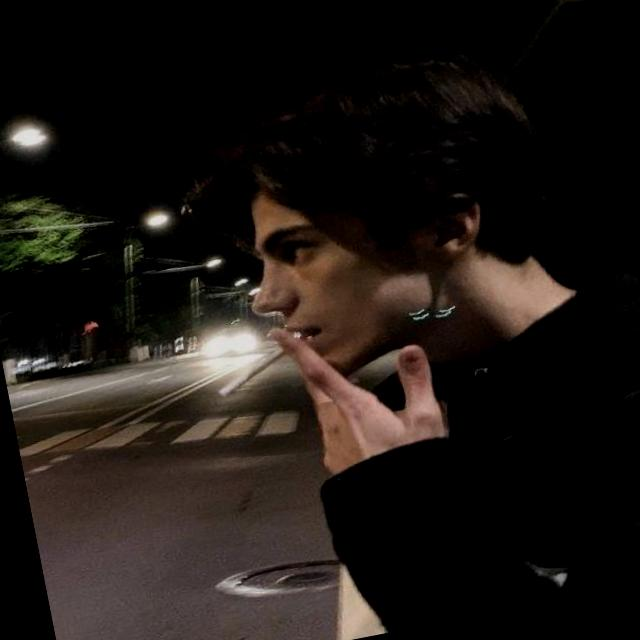cigarette: (196, 310, 314, 412)
